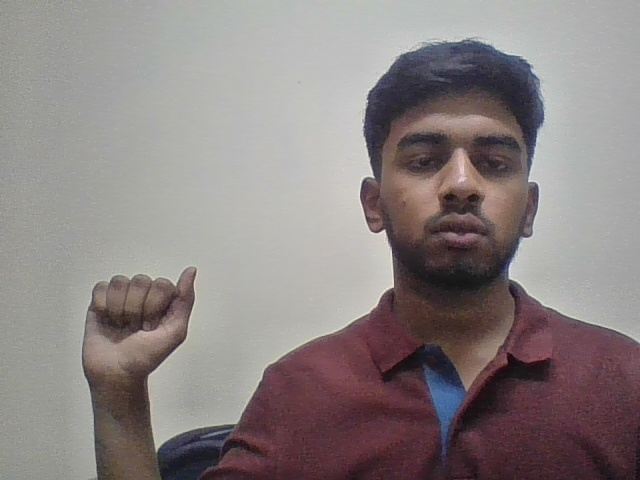A: (64, 261, 202, 392)
